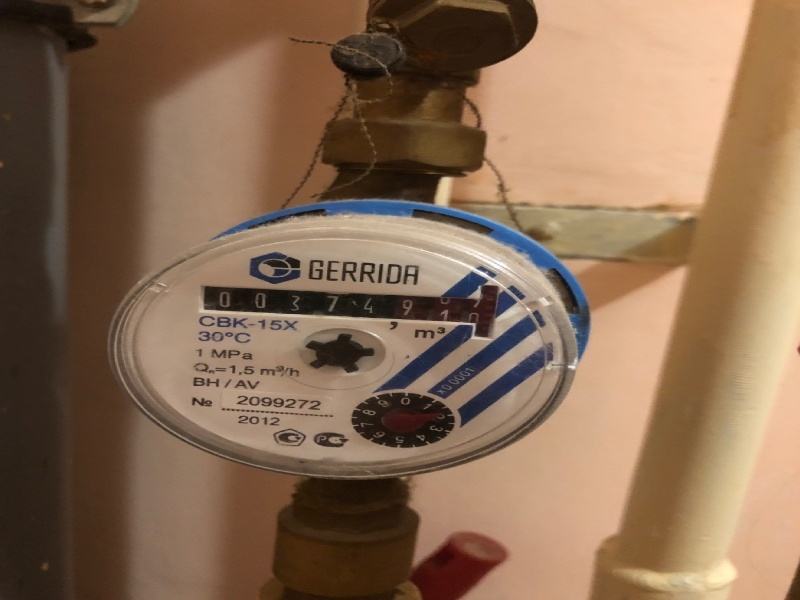meter: (210, 276, 498, 325)
